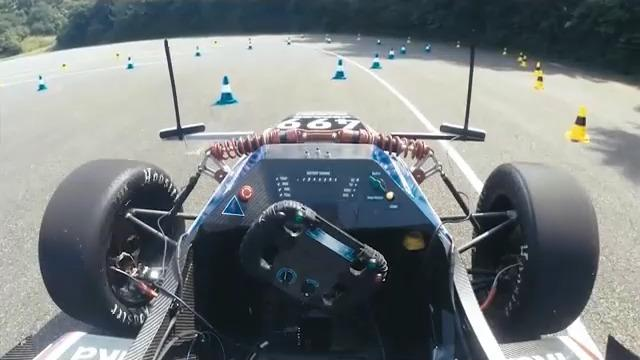blue_cone: (211, 73, 241, 107), (329, 57, 349, 83), (32, 72, 49, 93), (369, 50, 386, 71), (124, 56, 136, 72), (398, 43, 409, 57), (192, 44, 201, 58), (387, 46, 396, 60), (422, 43, 432, 54)
yellow_cone: (565, 103, 590, 149), (534, 61, 548, 77), (534, 75, 547, 92), (519, 53, 528, 71), (517, 50, 525, 63)
